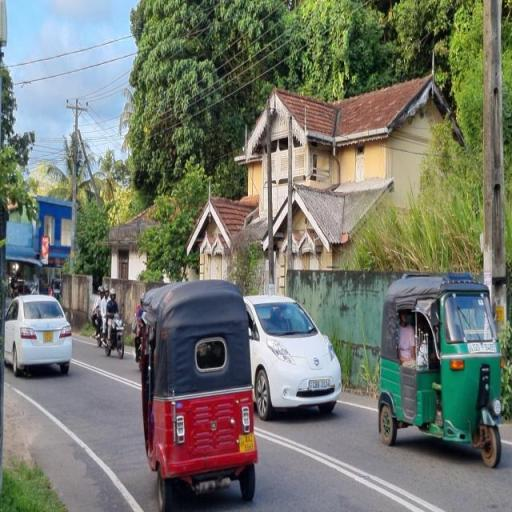double_white_line: (10, 373, 142, 510)
